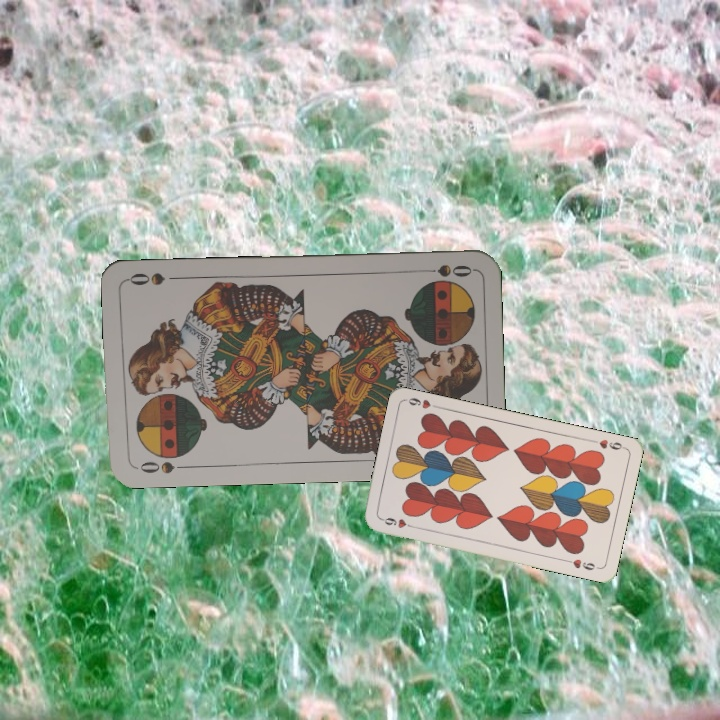H9: (587, 435, 628, 453), (377, 513, 417, 531)
SO: (415, 260, 475, 280), (131, 457, 191, 476)
